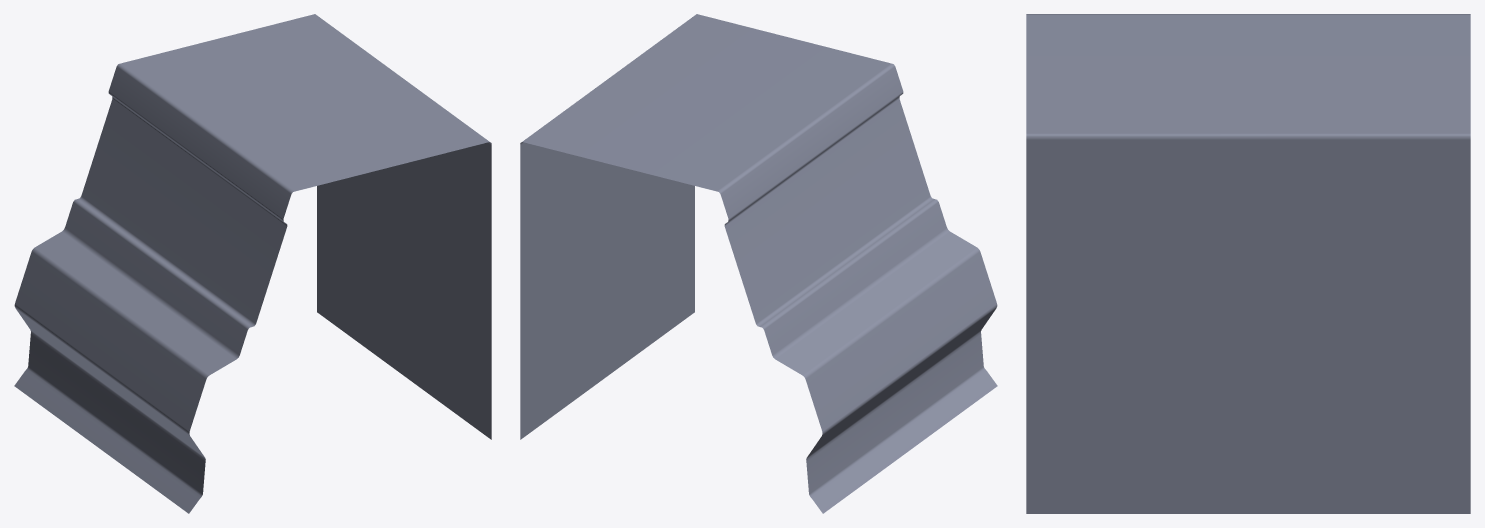
File: Wall1TEST.fbx
3 views of the same model, side by side, from view 1: azimuth 30°, elevation 25°; view 2: azimuth 150°, elevation 25°; view 3: azimuth 270°, elevation 25° (orthographic). The views are drawn at different scales.
Parts seen in each view (by area): view 1: Wall1; view 2: Wall1; view 3: Wall1.
Part boxes in pixels (x1,y1,x2,y2): Wall1: (14,14,491,513); Wall1: (520,14,997,513); Wall1: (1026,14,1470,513).
Bounding box in the file's own units: 1 × 0.9425 × 1.
